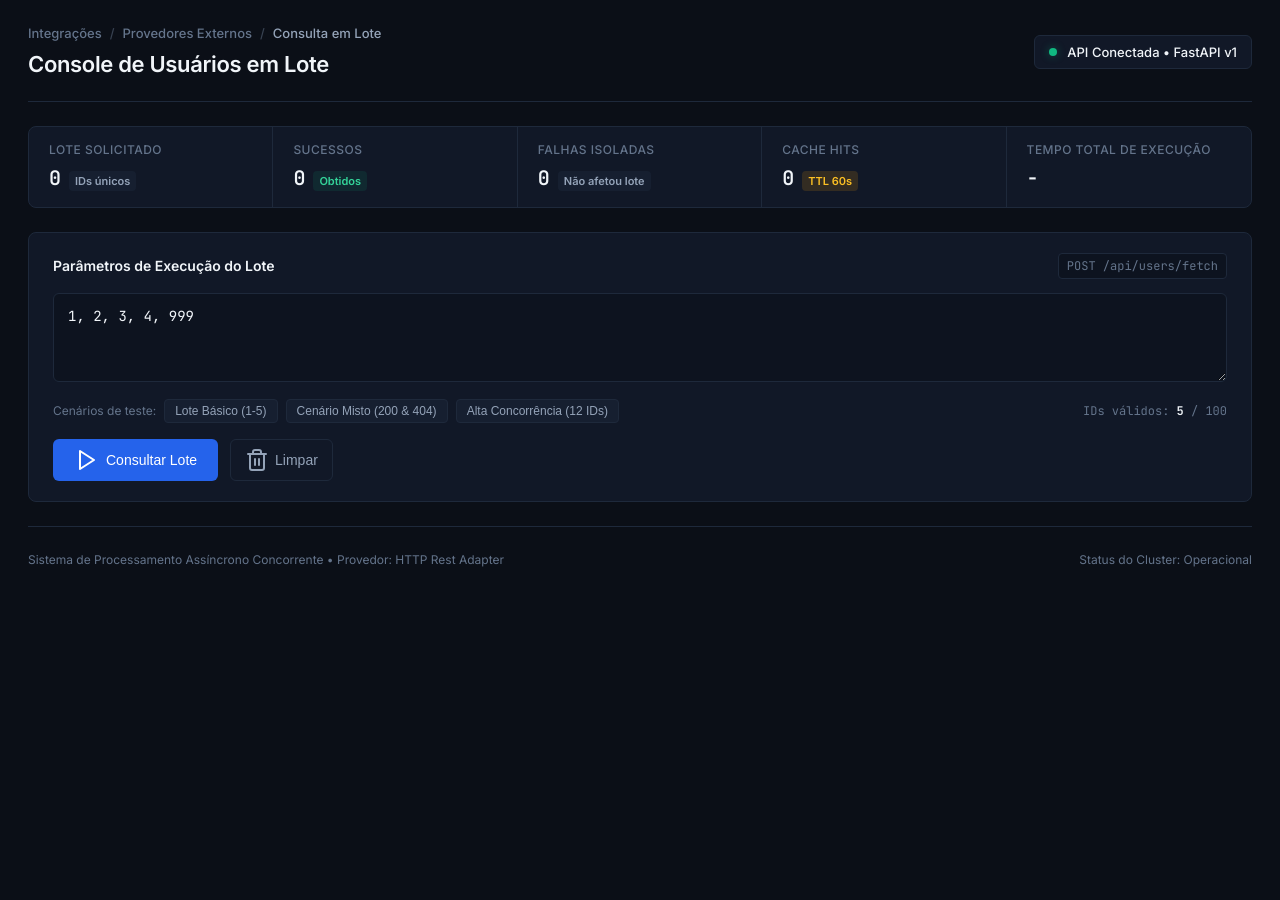
Test case: App Component (Integracao de Tela e Abas) › deve alternar entre as abas e exibir a tabela e o painel de falhas
The width and height of the screenshot is (1280, 900).
Click the button "Consultar Lote".
click(136, 460)  # box x1=53 y1=439 x2=218 y2=481
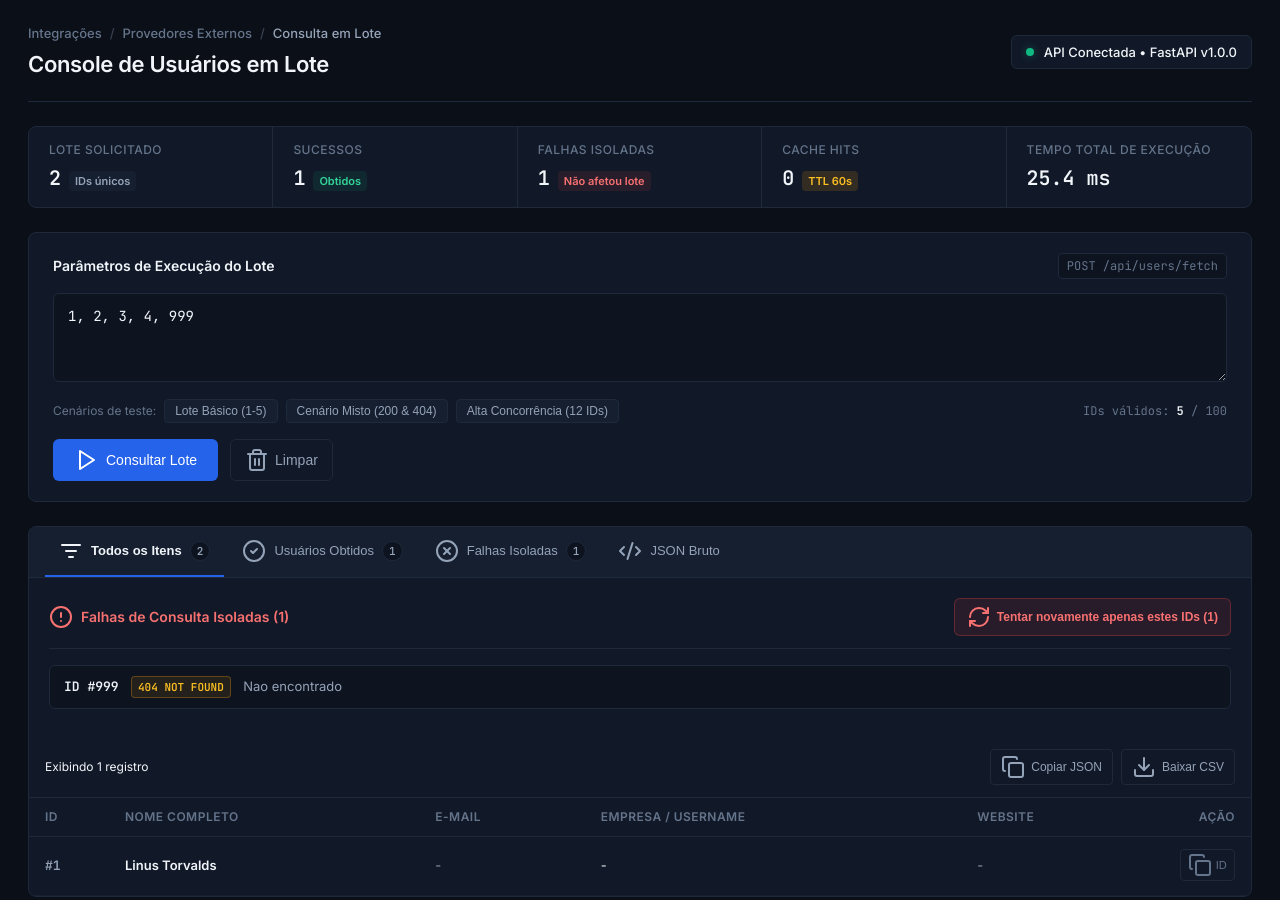
Check: the text "Linus Torvalds" is shown, box x1=125 y1=856 x2=217 y2=876
# Clica na aba Usuários Obtidos
Click the button "Usuários Obtidos 1".
click(323, 552)  # box x1=228 y1=527 x2=417 y2=577
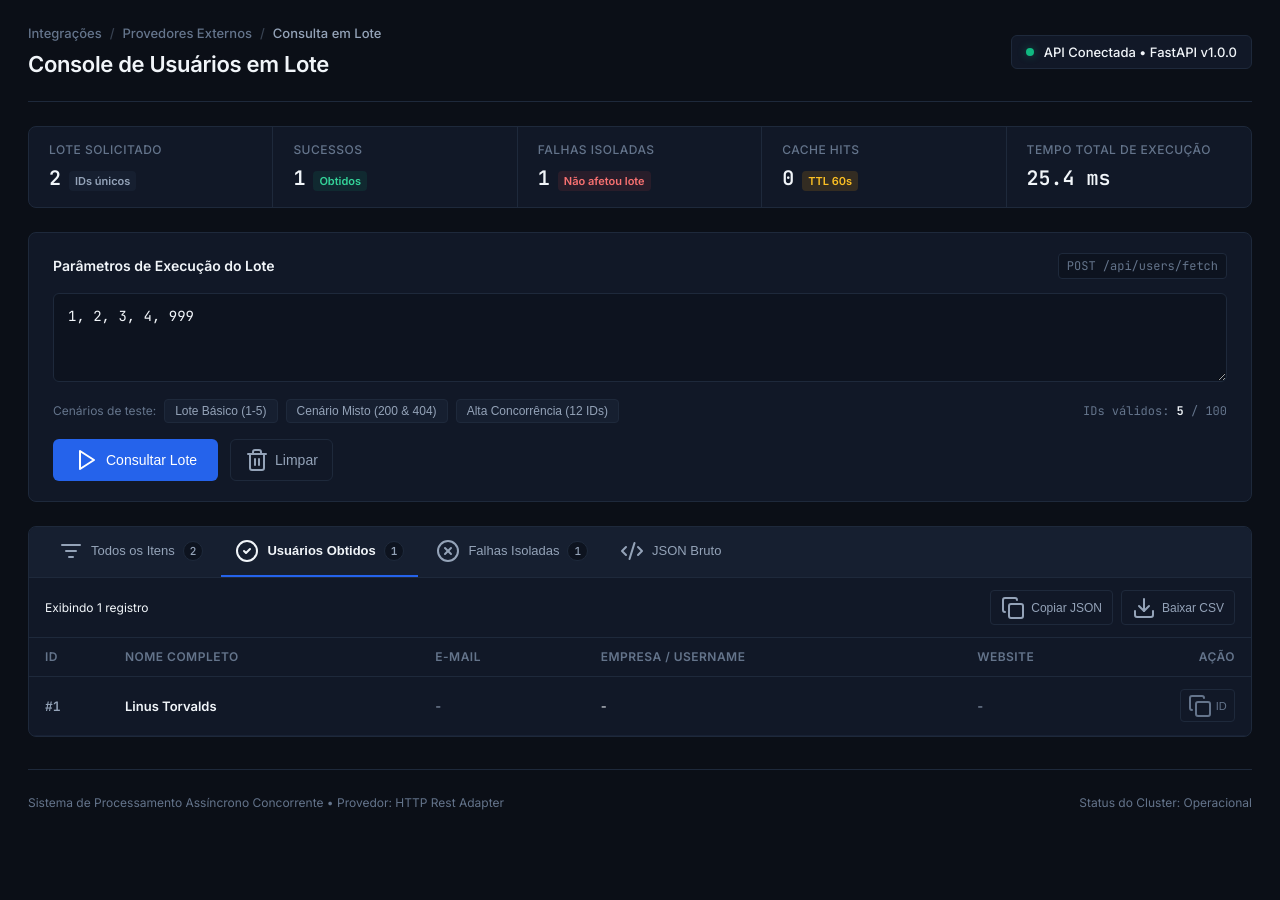
Check: the text "Linus Torvalds" is shown, box x1=125 y1=697 x2=217 y2=716
# Clica na aba Falhas Isoladas
Click the button "Falhas Isoladas 1".
click(512, 552)  # box x1=422 y1=527 x2=602 y2=577
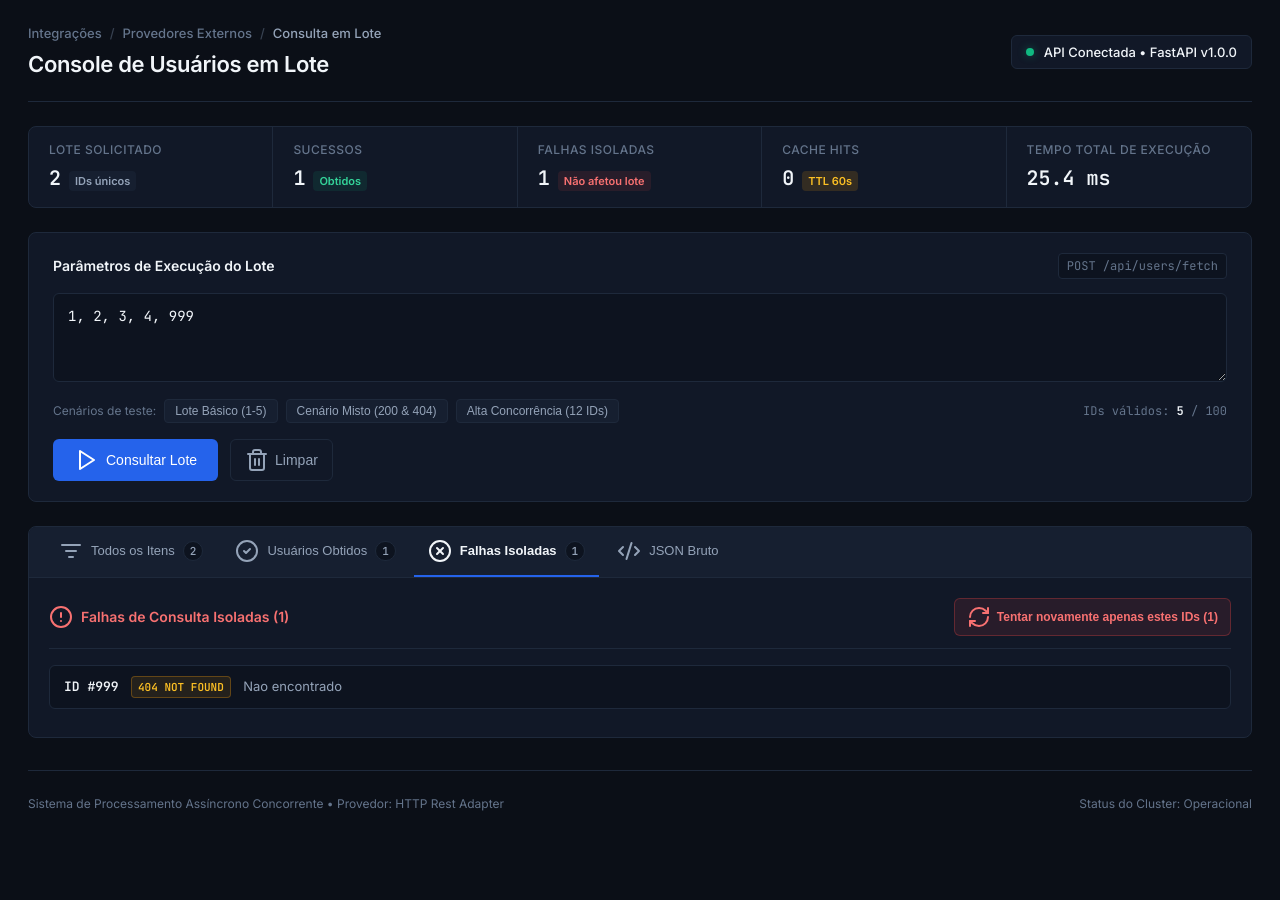
Check: the text "Falhas de Consulta Isoladas (1)" is shown, box x1=81 y1=606 x2=289 y2=627
# Clica na aba JSON Bruto
Click the button "JSON Bruto".
click(668, 552)  # box x1=603 y1=527 x2=733 y2=577
(page scrolled)
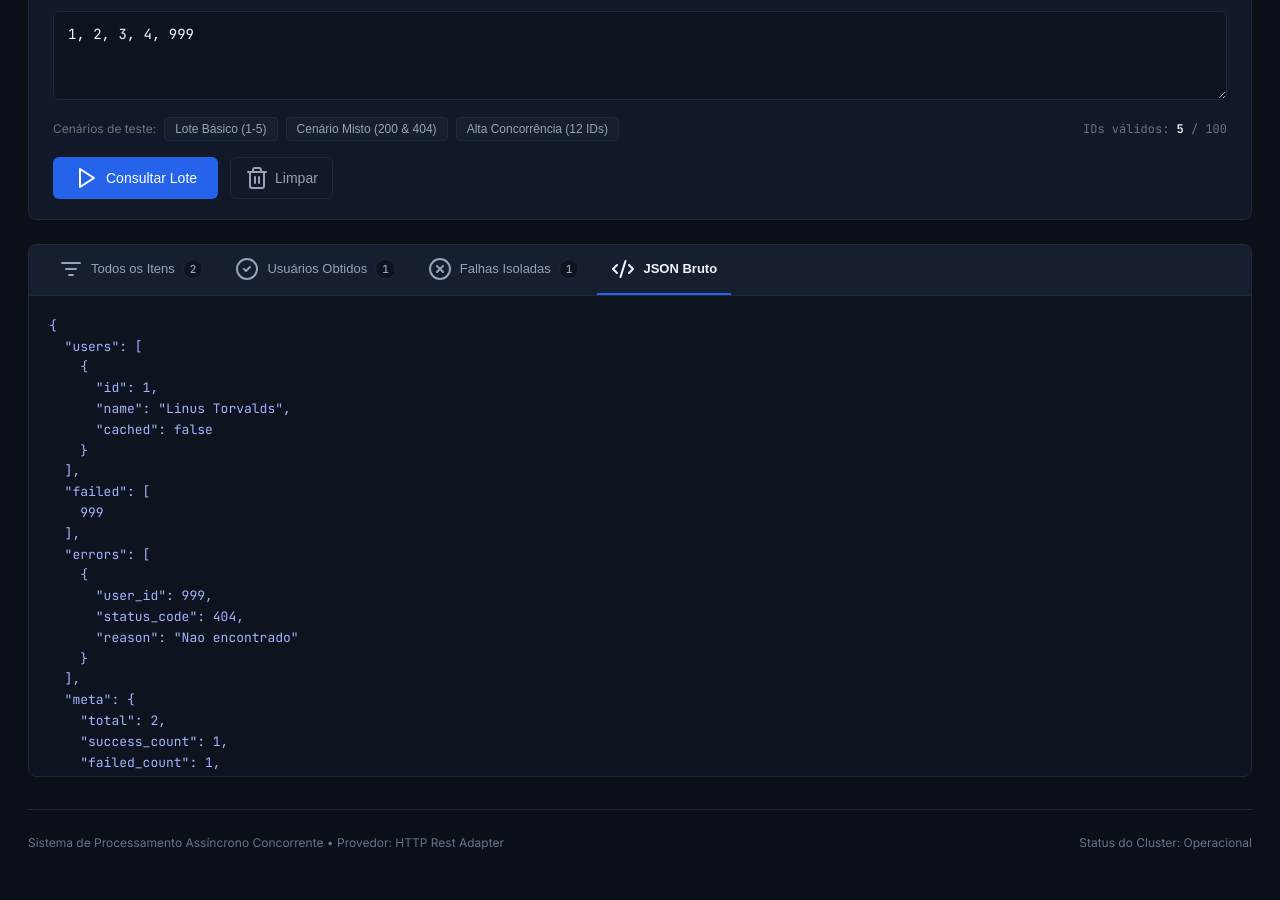
Check: the text "\"success_count\": 1" is shown, box x1=49 y1=317 x2=299 y2=777
